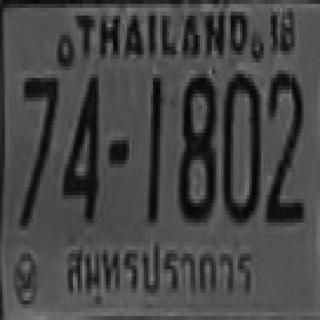N00: (221, 70, 259, 219)
N01: (146, 74, 160, 222)
N02: (265, 70, 302, 222)
N04: (61, 72, 99, 220)
N07: (20, 74, 58, 226), (21, 74, 56, 179)
N08: (176, 74, 214, 218)
P57: (57, 238, 256, 310)
